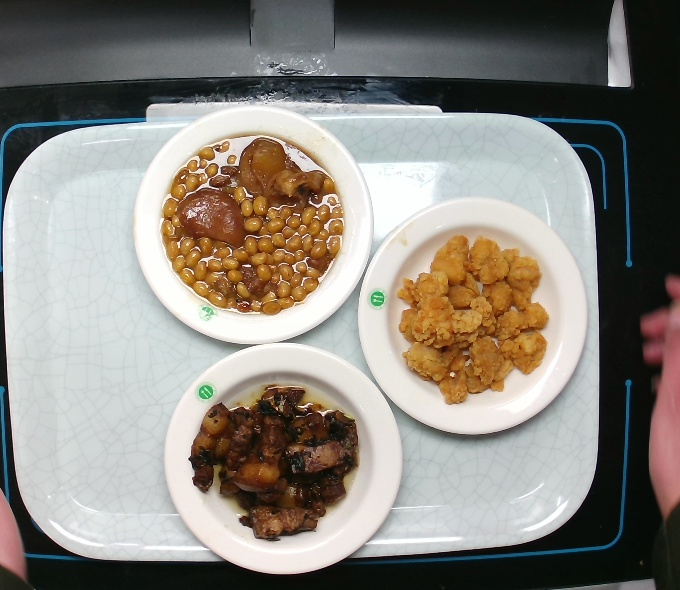wcq-GanCaiRou: (186, 383, 361, 540)
wcq-HuangDouZhuJiao: (159, 131, 347, 317)
wcq-JiMiHua: (397, 234, 550, 405)
